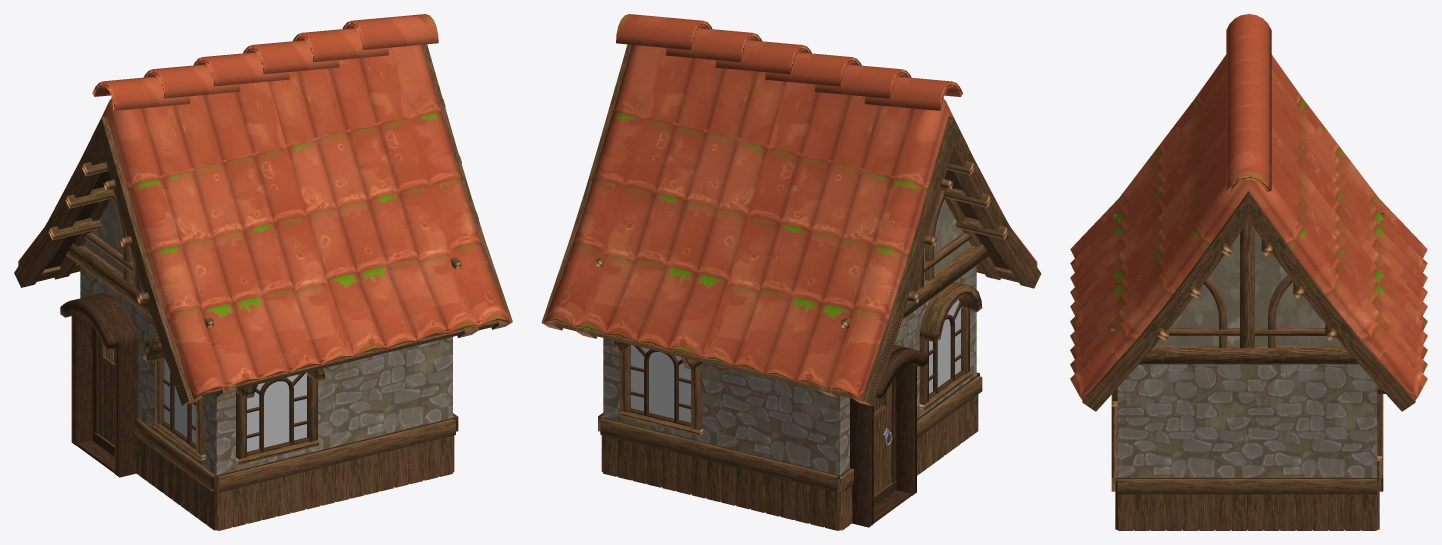
Rendered from Casa_piccola.obj.
3 views of the same model, side by side, from view 1: azimuth 30°, elevation 25°; view 2: azimuth 150°, elevation 25°; view 3: azimuth 270°, elevation 25° (orthographic). The views are drawn at different scales.
Parts seen in each view (by area): view 1: StaticMeshActor_54, StaticMeshActor_1, StaticMeshActor_13, StaticMeshActor_38, StaticMeshActor_19, StaticMeshActor_12, StaticMeshActor_27, StaticMeshActor_17, StaticMeshActor_15, StaticMeshActor_33; view 2: StaticMeshActor_54, StaticMeshActor_11, StaticMeshActor_5, StaticMeshActor_38, StaticMeshActor_9, StaticMeshActor_27, StaticMeshActor_17, StaticMeshActor_12, StaticMeshActor_33, StaticMeshActor_15; view 3: StaticMeshActor_54, StaticMeshActor_7, StaticMeshActor_3, StaticMeshActor_29, StaticMeshActor_1, StaticMeshActor_9.
Boxes of the visible parts, x1,y1,x2,y2 form: StaticMeshActor_54: (14,14,512,405); StaticMeshActor_1: (334,337,455,501); StaticMeshActor_13: (216,365,337,530); StaticMeshActor_38: (60,293,138,477); StaticMeshActor_19: (235,368,325,464); StaticMeshActor_12: (143,316,217,530); StaticMeshActor_27: (48,162,218,344); StaticMeshActor_17: (143,335,205,460); StaticMeshActor_15: (80,266,148,480); StaticMeshActor_33: (92,326,114,456); StaticMeshActor_54: (541,14,1041,406); StaticMeshActor_11: (718,367,839,530); StaticMeshActor_5: (600,338,721,501); StaticMeshActor_38: (850,344,928,527); StaticMeshActor_9: (612,341,702,436); StaticMeshActor_27: (841,161,1008,328); StaticMeshActor_17: (919,282,982,410); StaticMeshActor_12: (908,265,982,475); StaticMeshActor_33: (873,375,896,506); StaticMeshActor_15: (839,315,908,530); StaticMeshActor_54: (1070,14,1427,411); StaticMeshActor_7: (1247,364,1377,530); StaticMeshActor_3: (1117,364,1247,530); StaticMeshActor_29: (1110,221,1358,364); StaticMeshActor_1: (1111,423,1117,529); StaticMeshActor_9: (1377,385,1385,461).
Bounding box in the file's own units: 570 × 660 × 551.
